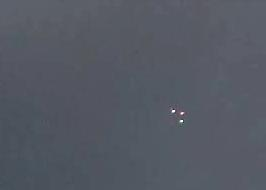Plane: (160, 101, 197, 128)
